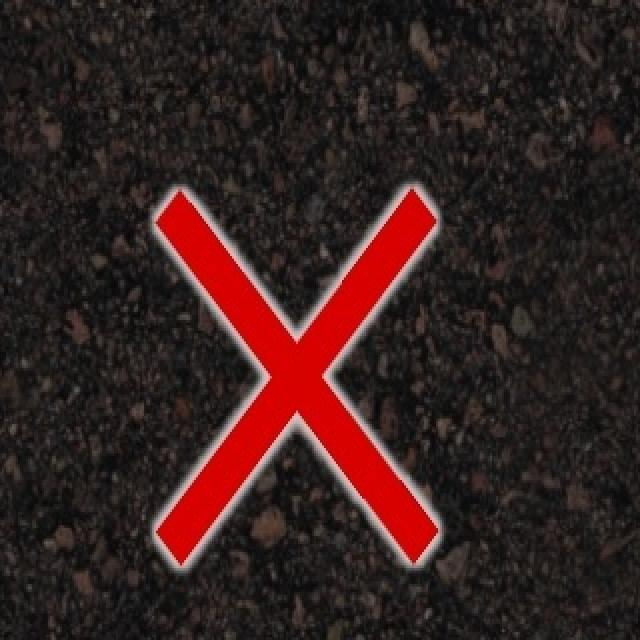x_marker: (155, 188, 437, 564)
